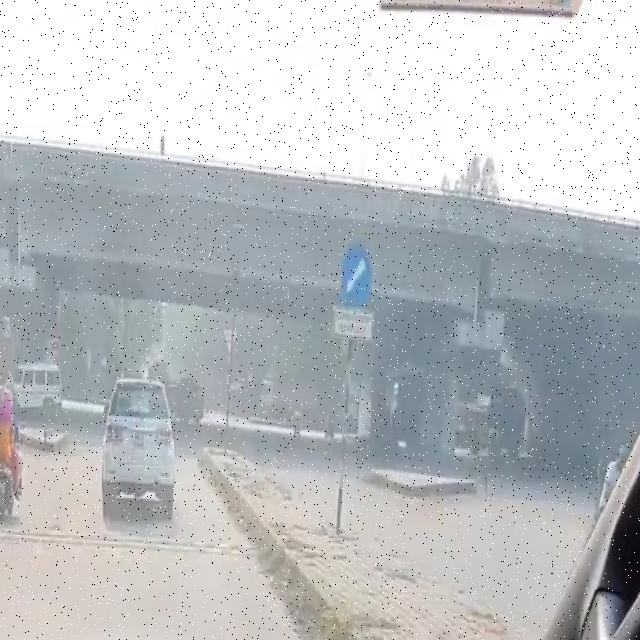compulsory_keep_left: (341, 248, 374, 310)
